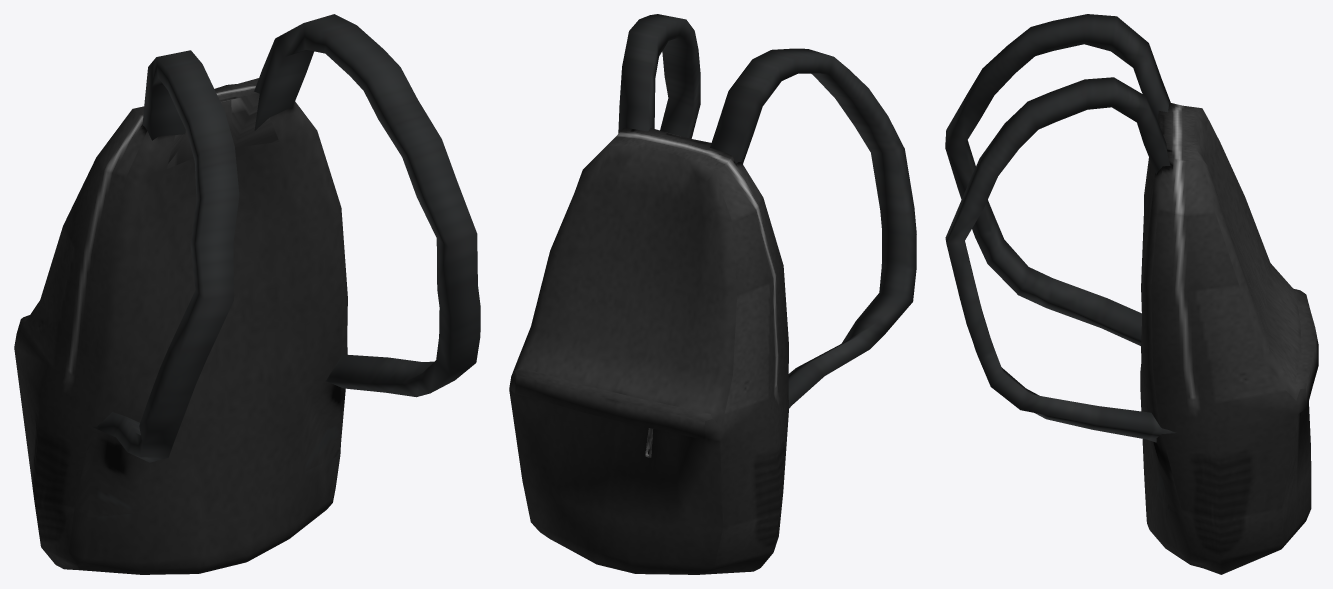
The model's file is bag.glb.
3 views of the same model, side by side, from view 1: azimuth 30°, elevation 25°; view 2: azimuth 150°, elevation 25°; view 3: azimuth 270°, elevation 25° (orthographic). The views are drawn at different scales.
Visible parts, largest first — view 1: Cube; view 2: Cube; view 3: Cube.
Boxes of the visible parts, box(x1,y1,x2,y2) form: Cube: box(14, 14, 480, 574); Cube: box(509, 14, 916, 574); Cube: box(945, 14, 1318, 574).
Size of the model in its own units: 0.1968 by 0.31 by 0.2229.
Materials: 1 (1 with a texture image).
